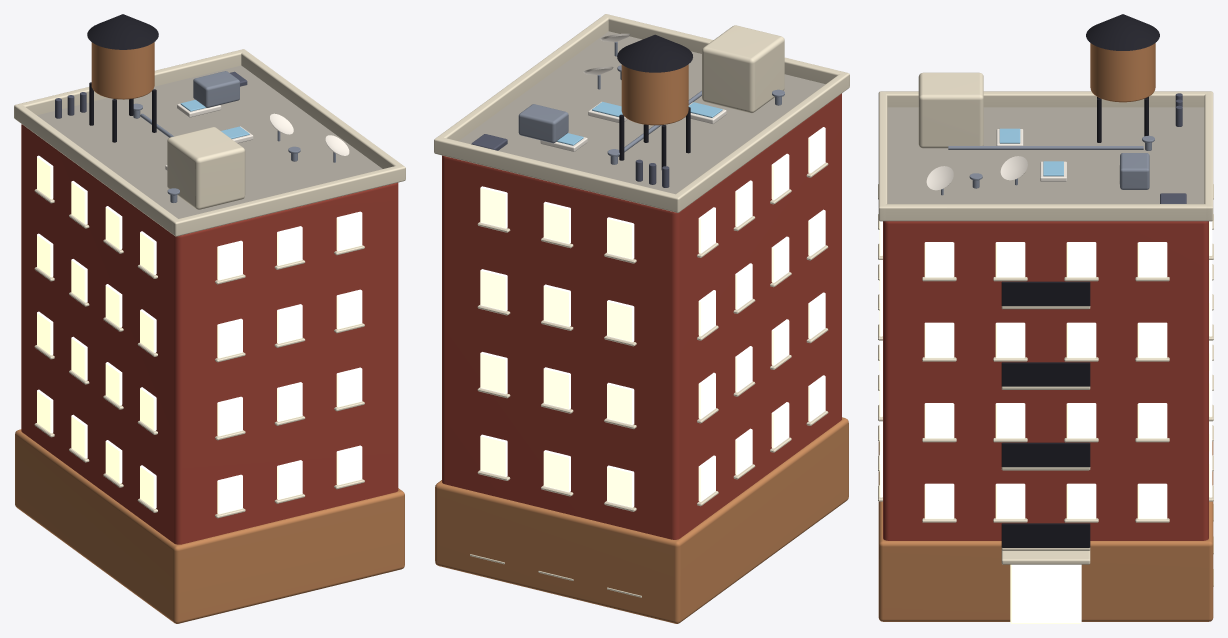
File: apartment.glb
3 renders of one model, left to right at view 1: azimuth 30°, elevation 25°; view 2: azimuth 150°, elevation 25°; view 3: azimuth 270°, elevation 25°, orthographic. The views are drawn at different scales.
Parts seen in each view (by area): view 1: apartment; view 2: apartment; view 3: apartment.
Part boxes in pixels (left/top/right/bottom): apartment: left=14, top=14, right=405, bottom=623; apartment: left=434, top=14, right=849, bottom=623; apartment: left=878, top=14, right=1213, bottom=623.
Bounding box in the file's own units: 10.47 × 19.6 × 11.34.
Materials: 1 (1 with a texture image).
